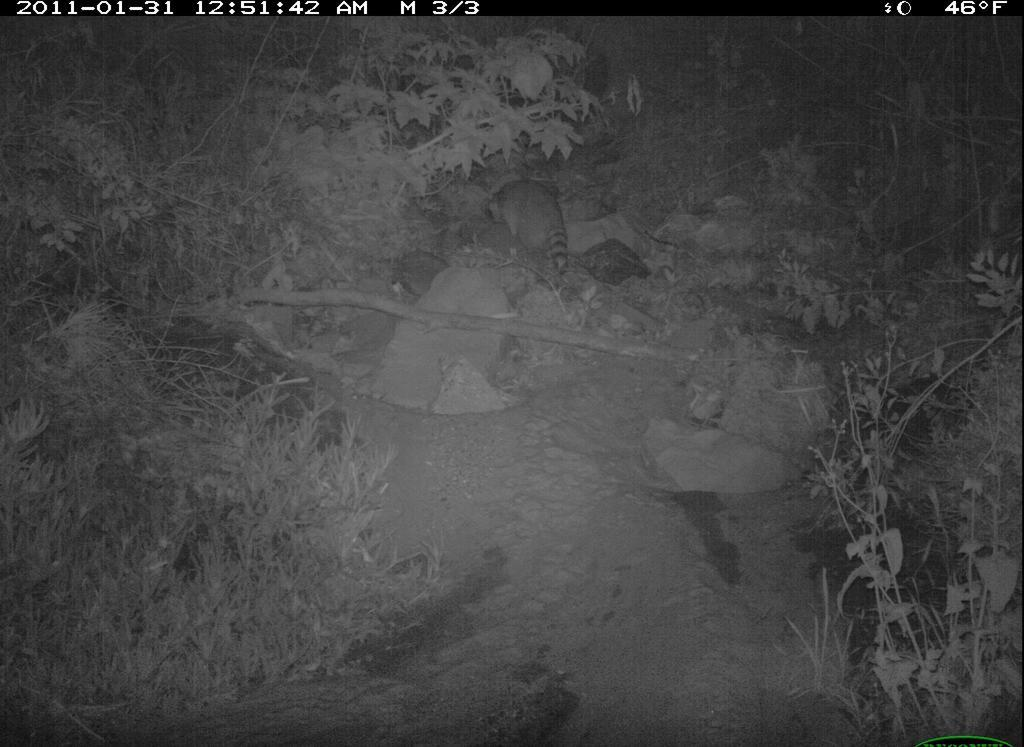raccoon: (483, 168, 582, 287)
